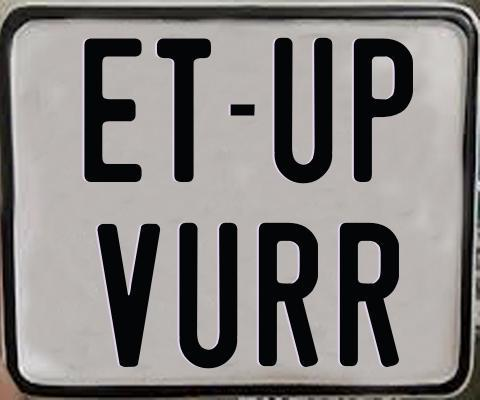E: (84, 37, 146, 181)
P: (354, 35, 415, 183)
R: (339, 220, 404, 367), (256, 222, 317, 367)
T: (154, 38, 209, 183)
U: (177, 220, 240, 369), (272, 38, 334, 184)
V: (96, 223, 161, 372)
